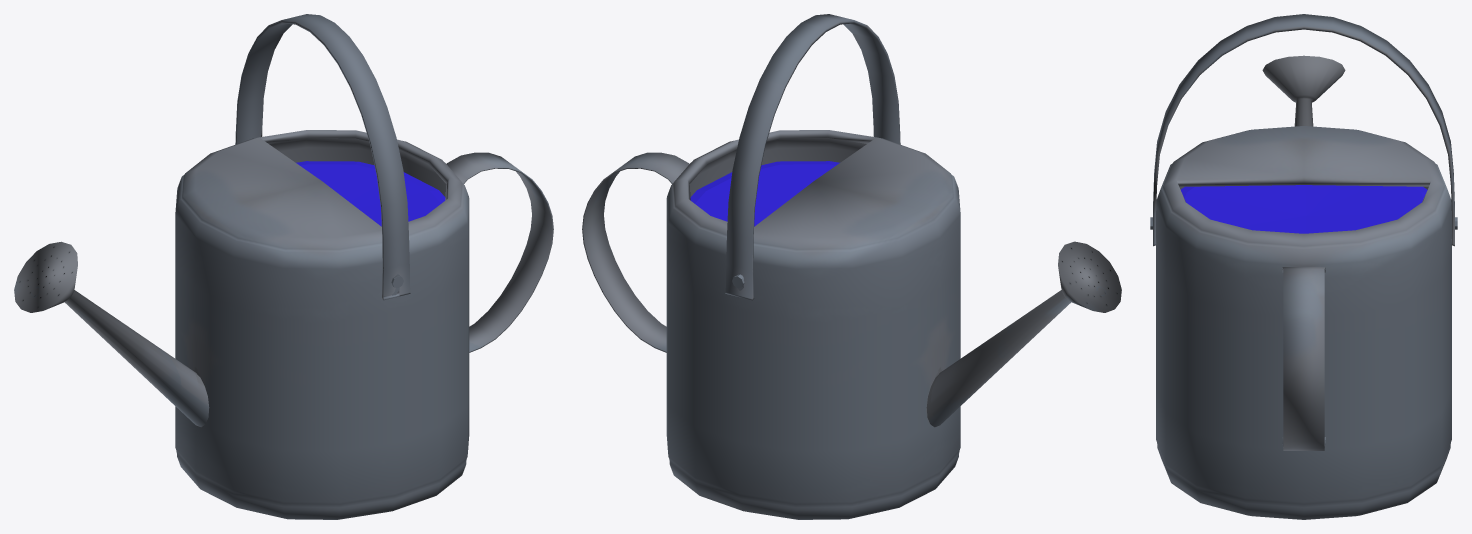
Rendered from WateringCan.fbx.
The picture shows the model from 3 angles, left to right: view 1: azimuth 30°, elevation 25°; view 2: azimuth 150°, elevation 25°; view 3: azimuth 270°, elevation 25°; orthographic projection.
Parts seen in each view (by area): view 1: Cylinder.002, Circle, Cube.001; view 2: Cylinder.002, Circle, Cube.001; view 3: Cylinder.002, Cube.001, Circle.
Boxes of the visible parts, x1=… form: Cylinder.002: x1=14, y1=130, x2=553, y2=519; Circle: x1=235, y1=14, x2=410, y2=300; Cube.001: x1=296, y1=161, x2=445, y2=226; Cylinder.002: x1=582, y1=130, x2=1121, y2=519; Circle: x1=725, y1=14, x2=900, y2=300; Cube.001: x1=690, y1=161, x2=839, y2=226; Cylinder.002: x1=1156, y1=55, x2=1451, y2=519; Cube.001: x1=1181, y1=185, x2=1427, y2=233; Circle: x1=1150, y1=14, x2=1457, y2=246.
Size of the model in its own units: 67.51 by 54.6 by 33.99.
